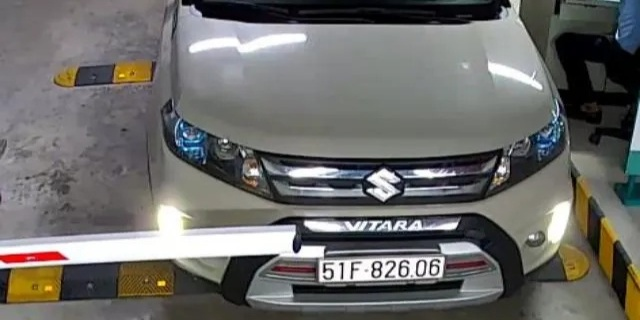bien_so: (318, 258, 446, 283)
